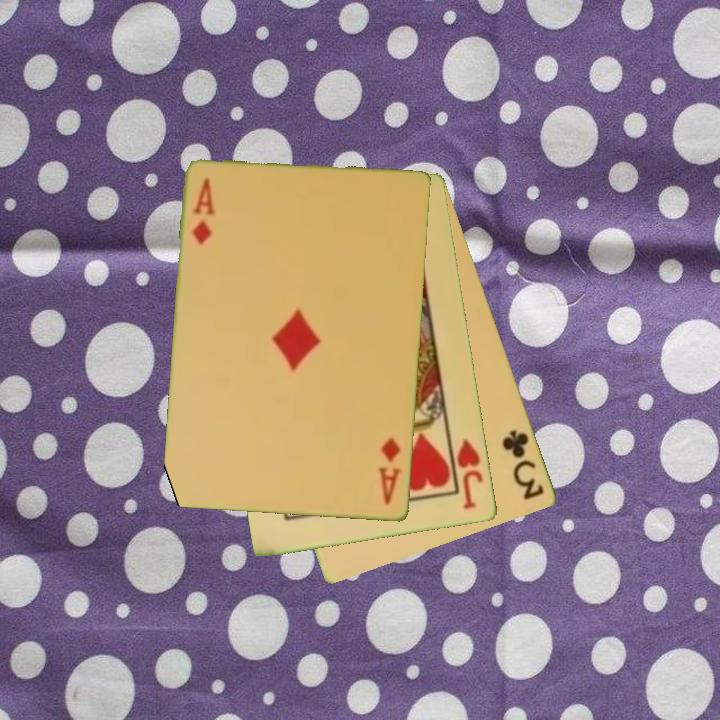3c: (499, 426, 548, 503)
Ad: (375, 434, 404, 508), (189, 175, 218, 249)
Jh: (447, 432, 487, 513)
